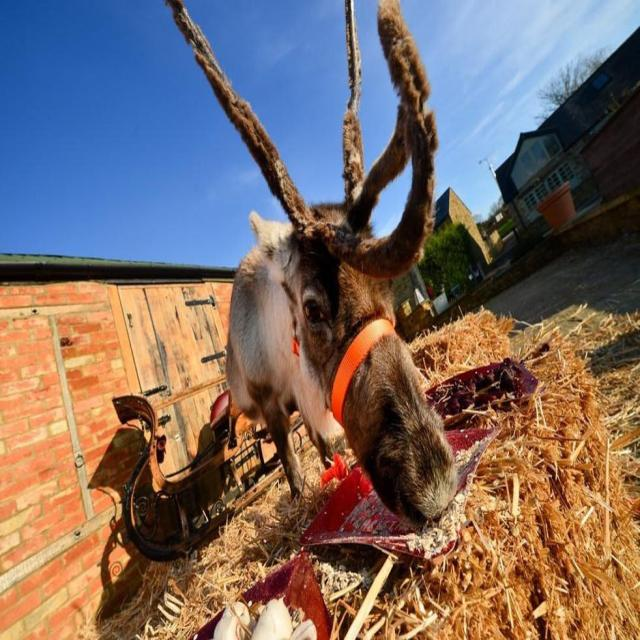Reindeer: (165, 1, 483, 521)
